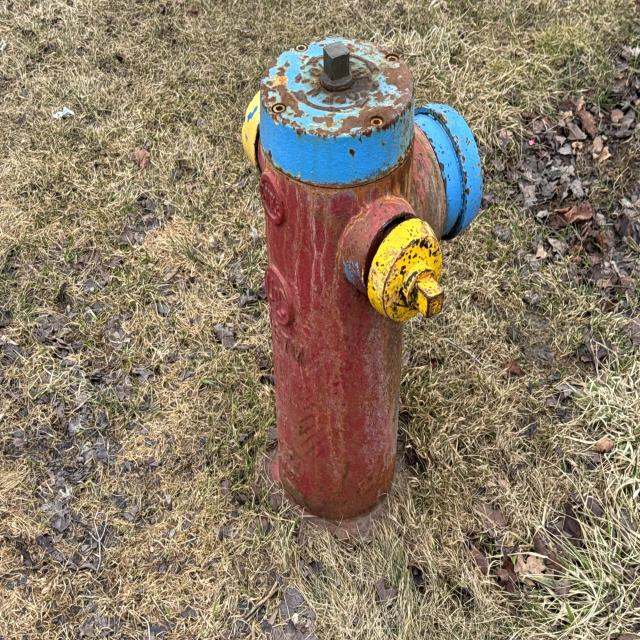Fire hydrant: (239, 36, 483, 545)
